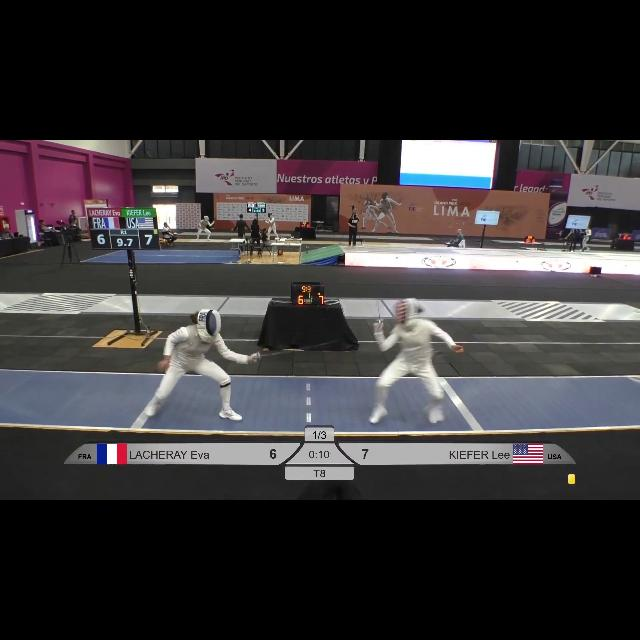blade: (250, 336, 346, 362), (372, 283, 383, 327)
